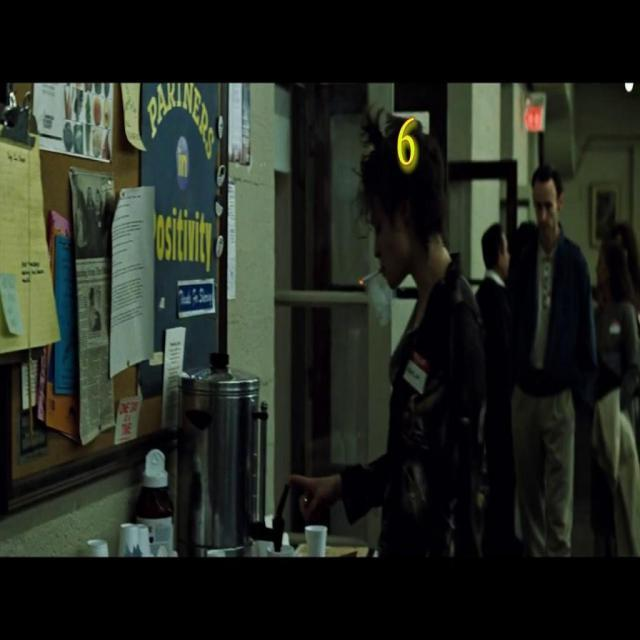smoking: (357, 267, 382, 287)
